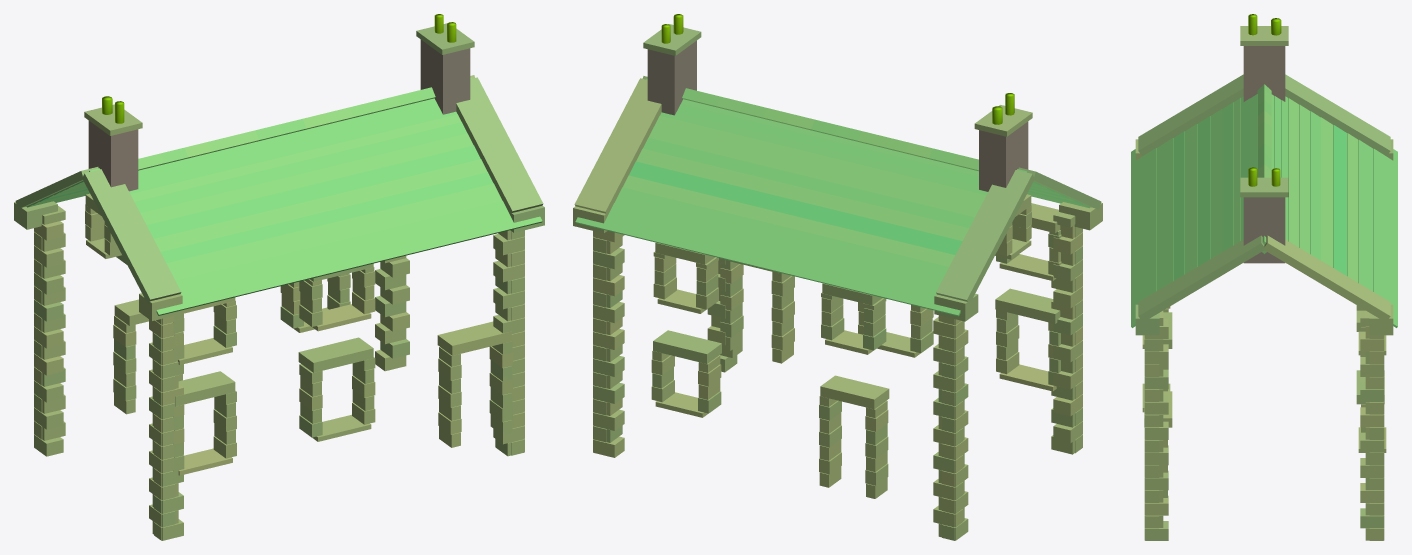
File: SM_Bld_026_Stone.glb
3 views of the same model, side by side, from view 1: azimuth 30°, elevation 25°; view 2: azimuth 150°, elevation 25°; view 3: azimuth 270°, elevation 25° (orthographic). The views are drawn at different scales.
Visible parts, largest first — view 1: SM_Bld_026_Stone; view 2: SM_Bld_026_Stone; view 3: SM_Bld_026_Stone.
Boxes of the visible parts, box(x1,y1,x2,y2) form: SM_Bld_026_Stone: box(14, 14, 544, 540); SM_Bld_026_Stone: box(573, 14, 1102, 540); SM_Bld_026_Stone: box(1131, 14, 1397, 540).
Size of the model in its own units: 9.14 by 8.71 by 5.74.
